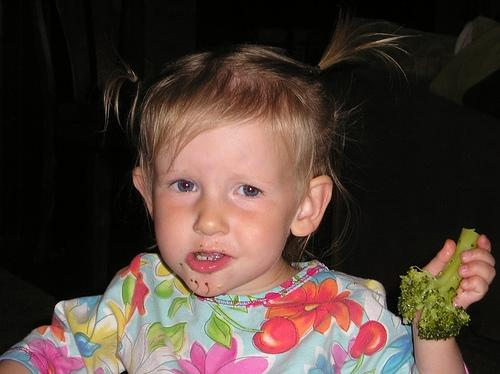broccoli: (398, 227, 480, 341)
